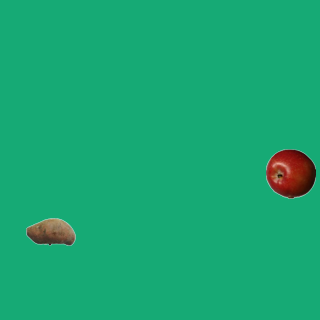Apple Braeburn: (265, 148, 315, 198)
Potato Sweet: (25, 206, 75, 256)
